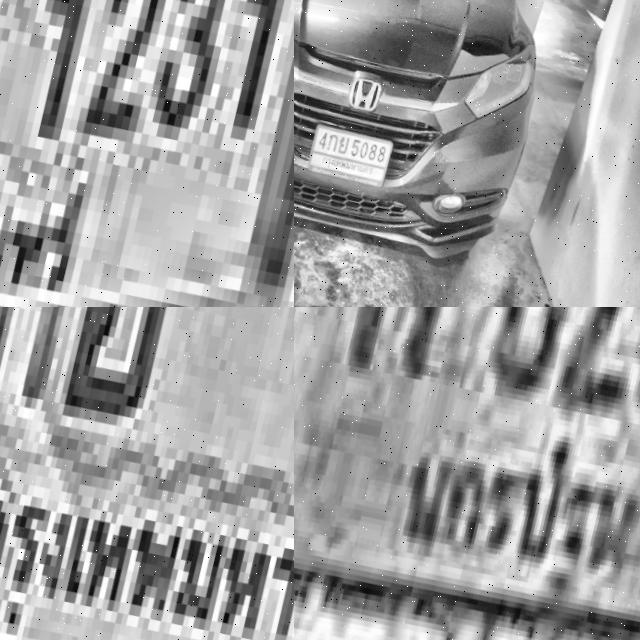license-plate: (294, 307, 640, 640), (0, 307, 294, 640), (0, 0, 294, 307), (303, 119, 395, 197)
